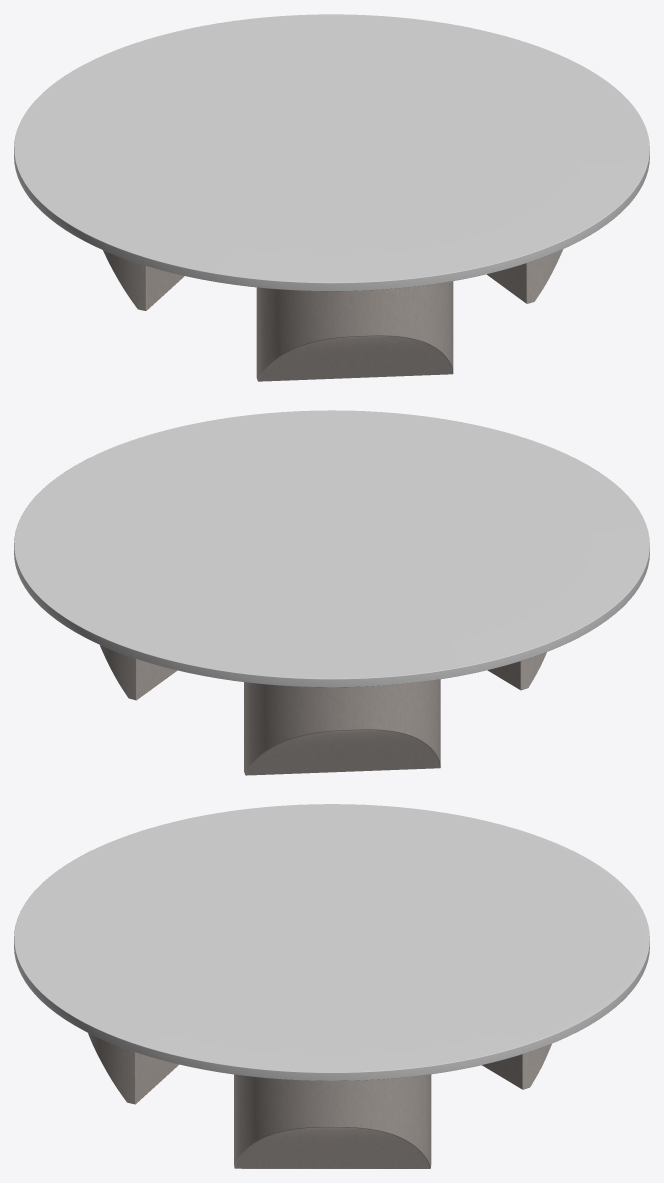
Rendered from round-glass-coffee-table.glb.
3 renders of one model, top to bottom at view 1: azimuth 30°, elevation 25°; view 2: azimuth 150°, elevation 25°; view 3: azimuth 270°, elevation 25°, orthographic.
Parts seen in each view (by area): view 1: Glass_Table3; view 2: Glass_Table3; view 3: Glass_Table3.
Boxes of the visible parts, x1=… form: Glass_Table3: x1=14, y1=14, x2=649, y2=381; Glass_Table3: x1=14, y1=410, x2=649, y2=775; Glass_Table3: x1=14, y1=804, x2=649, y2=1168.
Size of the model in its own units: 1.61 by 0.4354 by 1.61.
2 materials, 1 textured.
